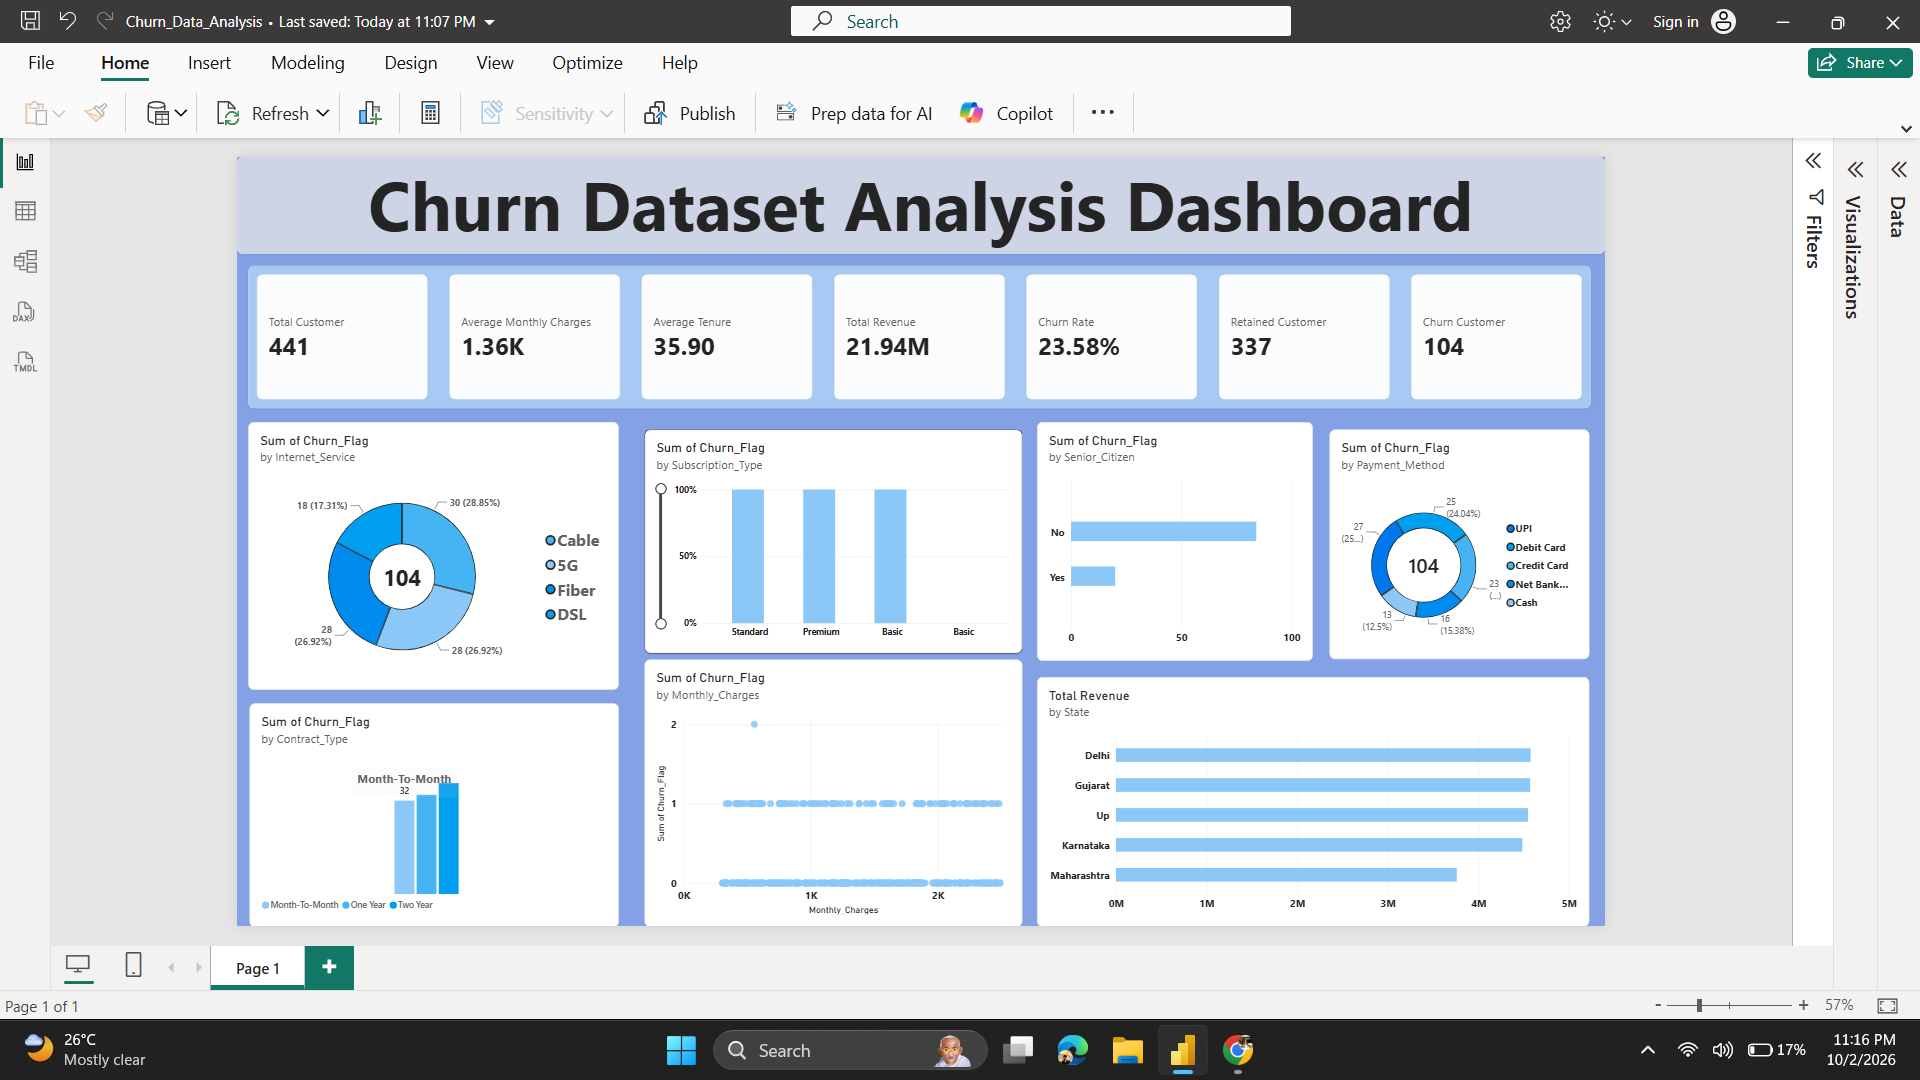

The dashboard page shown, as its layout file describes it:
{"tool":"powerbi","page":{"name":"Page 1","canvas":[1920,1080],"ordinal":0},"visuals":[{"type":"cardVisual","fields":{"Data":["Dax Measure.Total Customer","Dax Measure.Average Monthly Charges","Dax Measure.Average Tenure","Dax Measure.Total Revenue","Dax Measure.Churn Rate","Dax Measure.Retained Customer","Dax Measure.Churn Customer"]},"box":[15,152.5,1884,200],"z":0},{"type":"textbox","box":[0,0,1920,136],"z":1000},{"type":"clusteredColumnChart","fields":{"Y":["Sum(Clean_Churn_Data.Churn_Flag)"],"Series":["Clean_Churn_Data.Contract_Type"]},"box":[18,766,518,314],"z":2000},{"type":"hundredPercentStackedColumnChart","fields":{"Category":["Clean_Churn_Data.Subscription_Type"],"Y":["Sum(Clean_Churn_Data.Churn_Flag)"]},"box":[572,382,530,314],"z":3000},{"type":"scatterChart","fields":{"X":["Clean_Churn_Data.Monthly_Charges"],"Y":["Sum(Clean_Churn_Data.Churn_Flag)"]},"box":[572.5,705,530,375],"z":5000},{"type":"clusteredBarChart","fields":{"Category":["Clean_Churn_Data.State"],"Y":["Dax Measure.Total Revenue"]},"box":[1122.5,730,775,350],"z":6000},{"type":"donutChart","fields":{"Category":["Clean_Churn_Data.Internet_Service"],"Y":["Sum(Clean_Churn_Data.Churn_Flag)"]},"box":[16,372,520,376],"z":7000},{"type":"donutChart","fields":{"Category":["Clean_Churn_Data.Payment_Method"],"Y":["Sum(Clean_Churn_Data.Churn_Flag)"]},"box":[1532.5,382.5,365,322.5],"z":8000},{"type":"barChart","fields":{"Category":["Clean_Churn_Data.Senior_Citizen"],"Y":["Sum(Clean_Churn_Data.Churn_Flag)"]},"box":[1122.5,372.5,387.5,335],"z":9000}]}

Visuals, with their boxes on the page's 1920x1080 design canvas (x1, y1, x2, y2). These are canvas units, not pixel positions in the 1920x1080 screenshot, which may show the page scaled, cropped or inside an application window:
cardVisual - Dax Measure.Total Customer x Dax Measure.Average Monthly Charges: 15, 152, 1899, 352
textbox: 0, 0, 1920, 136
clusteredColumnChart - Sum(Clean_Churn_Data.Churn_Flag) x Clean_Churn_Data.Contract_Type: 18, 766, 536, 1080
hundredPercentStackedColumnChart - Clean_Churn_Data.Subscription_Type x Sum(Clean_Churn_Data.Churn_Flag): 572, 382, 1102, 696
scatterChart - Clean_Churn_Data.Monthly_Charges x Sum(Clean_Churn_Data.Churn_Flag): 572, 705, 1102, 1080
clusteredBarChart - Clean_Churn_Data.State x Dax Measure.Total Revenue: 1122, 730, 1898, 1080
donutChart - Clean_Churn_Data.Internet_Service x Sum(Clean_Churn_Data.Churn_Flag): 16, 372, 536, 748
donutChart - Clean_Churn_Data.Payment_Method x Sum(Clean_Churn_Data.Churn_Flag): 1532, 382, 1898, 705
barChart - Clean_Churn_Data.Senior_Citizen x Sum(Clean_Churn_Data.Churn_Flag): 1122, 372, 1510, 708
